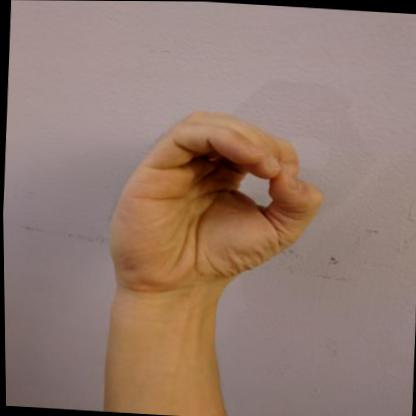O: (97, 102, 333, 304)
